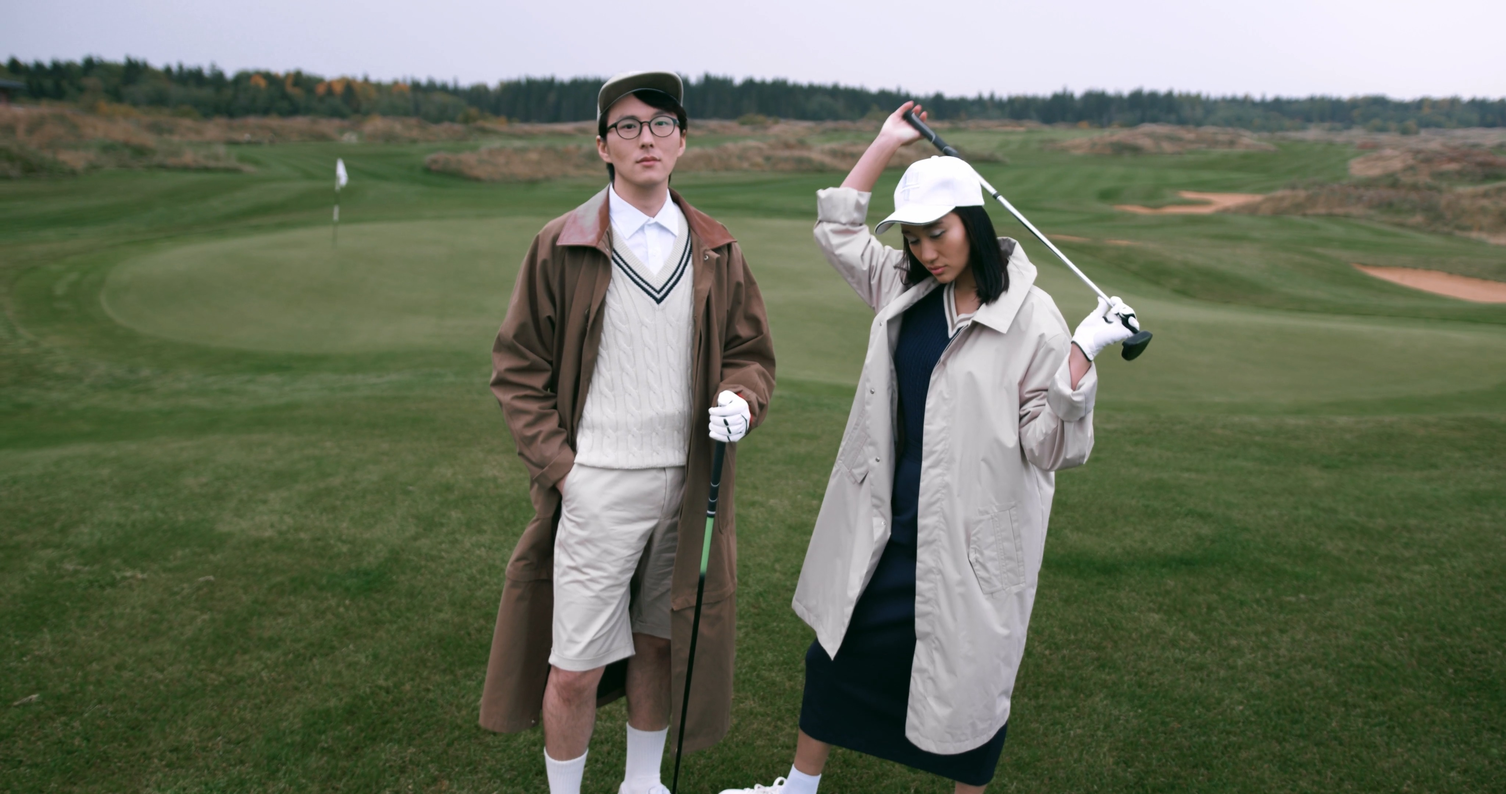No-gloves: (860, 88, 947, 154)
gloves: (1063, 289, 1159, 371), (699, 384, 781, 458)
